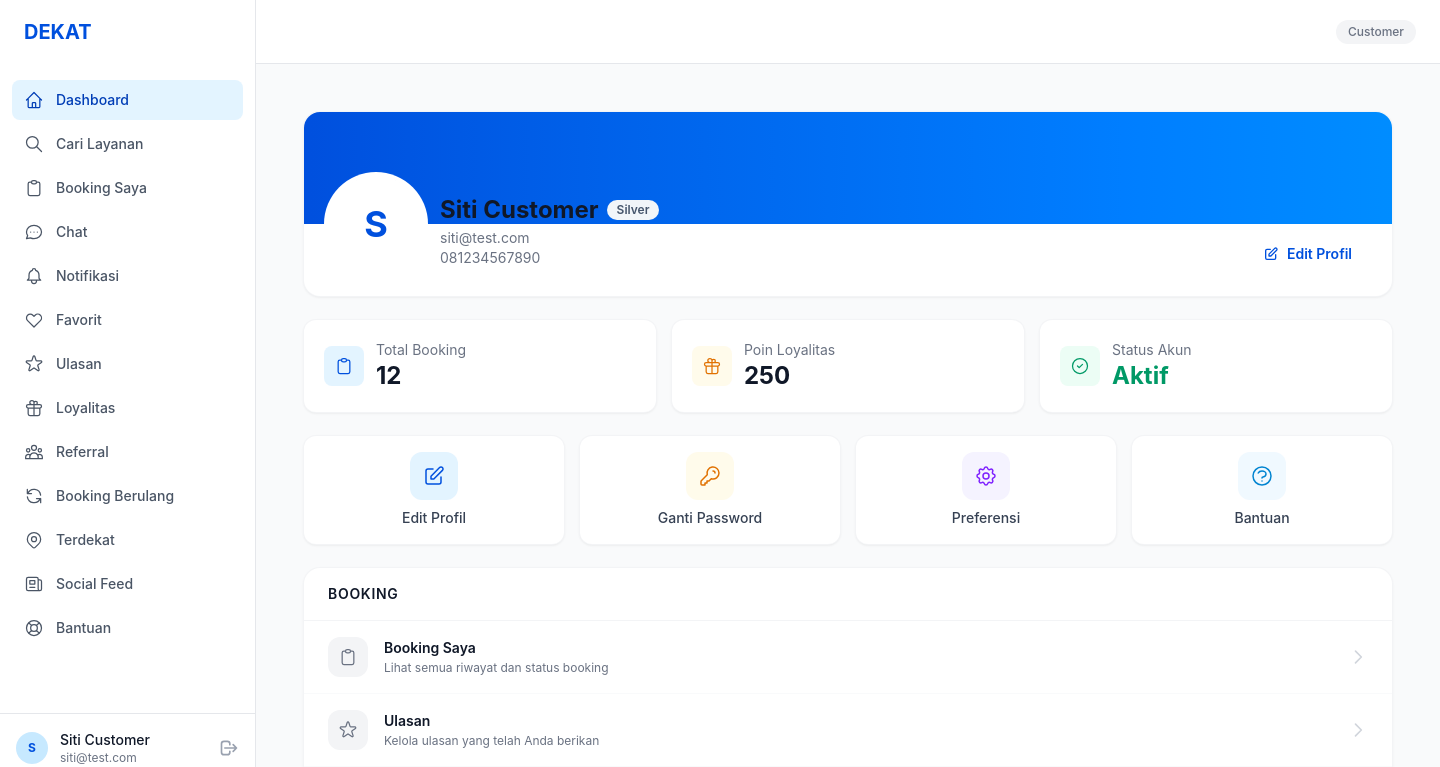
it: CustomerAccountPage › shows Edit Profil button and opens edit form
Step 1. Click the button "Edit Profil" in the row of "081234567890" → (1308, 254), box top-left (1247, 236), bottom-right (1368, 272)
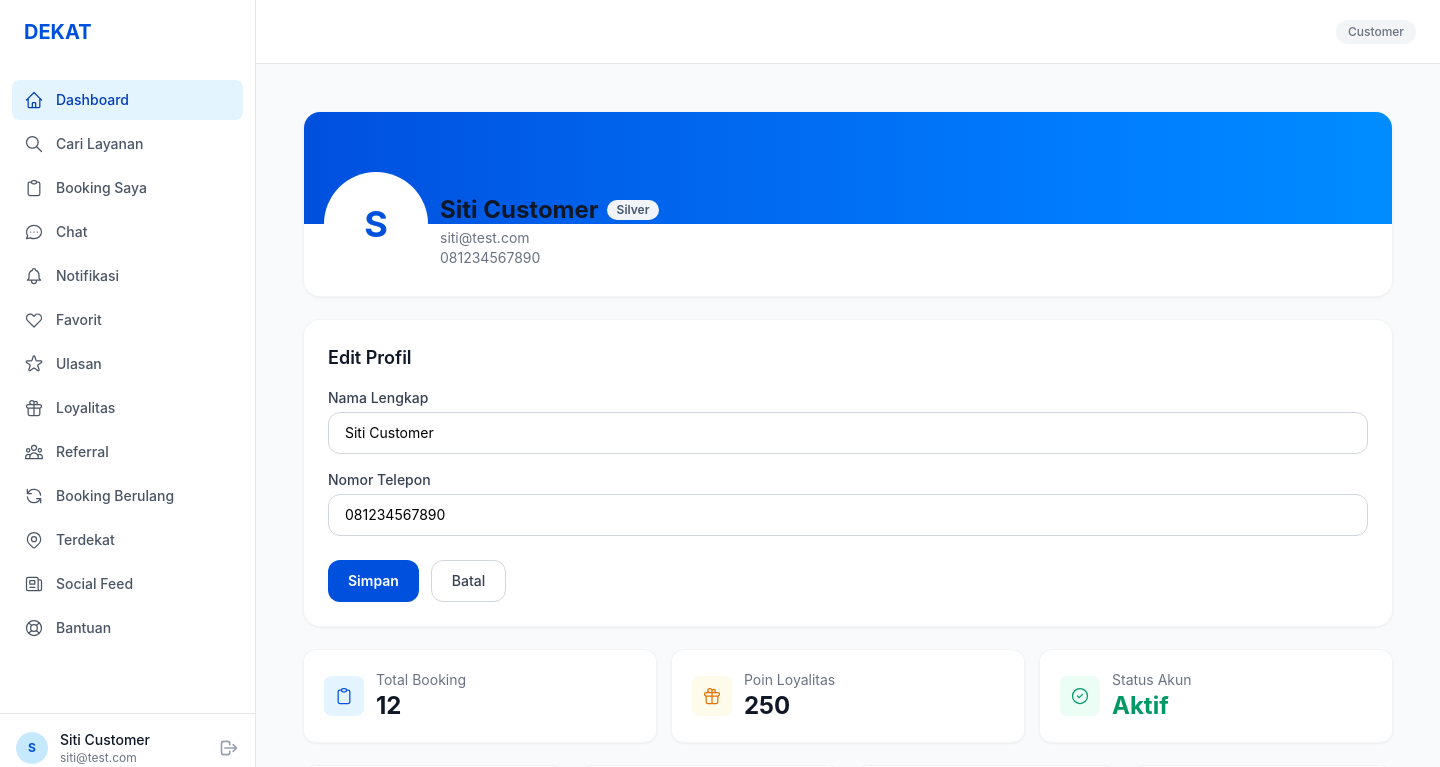
Expected: the text "Nama Lengkap" is shown, top-left (328, 389), bottom-right (428, 406)
Expected: the text "Nomor Telepon" is shown, top-left (328, 471), bottom-right (431, 488)
Expected: the button "Simpan" is shown, top-left (328, 560), bottom-right (419, 602)
